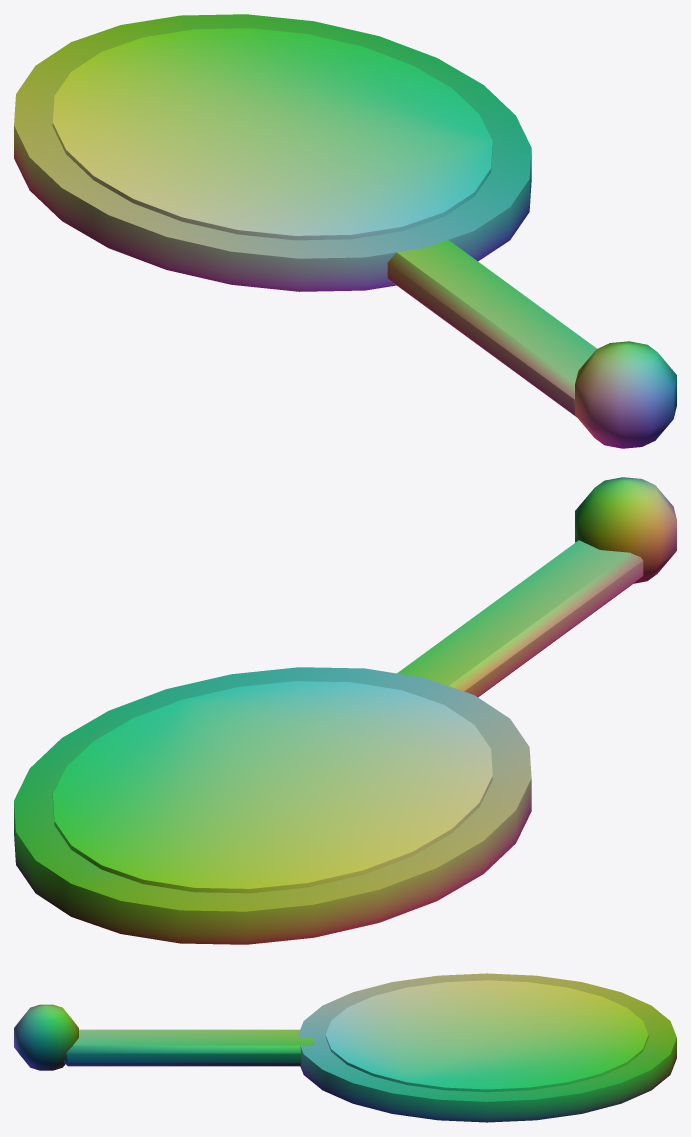
The model's file is hand_mirror.fbx.
3 renders of one model, top to bottom at view 1: azimuth 30°, elevation 25°; view 2: azimuth 150°, elevation 25°; view 3: azimuth 270°, elevation 25°, orthographic. The views are drawn at different scales.
Visible parts, largest first — view 1: hand_mirror; view 2: hand_mirror; view 3: hand_mirror.
Boxes of the visible parts, x1,y1,x2,y2 form: hand_mirror: (14,14,676,448); hand_mirror: (14,477,676,944); hand_mirror: (14,973,676,1122).
Bounding box in the file's own units: 0.4 × 0.09 × 0.8728.
